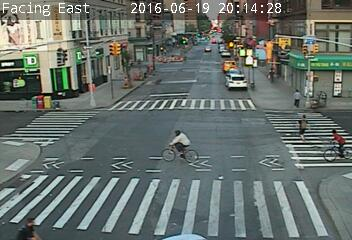neg: (161, 115, 198, 164), (318, 121, 351, 164)
pos: (292, 112, 313, 141), (289, 88, 305, 108)
